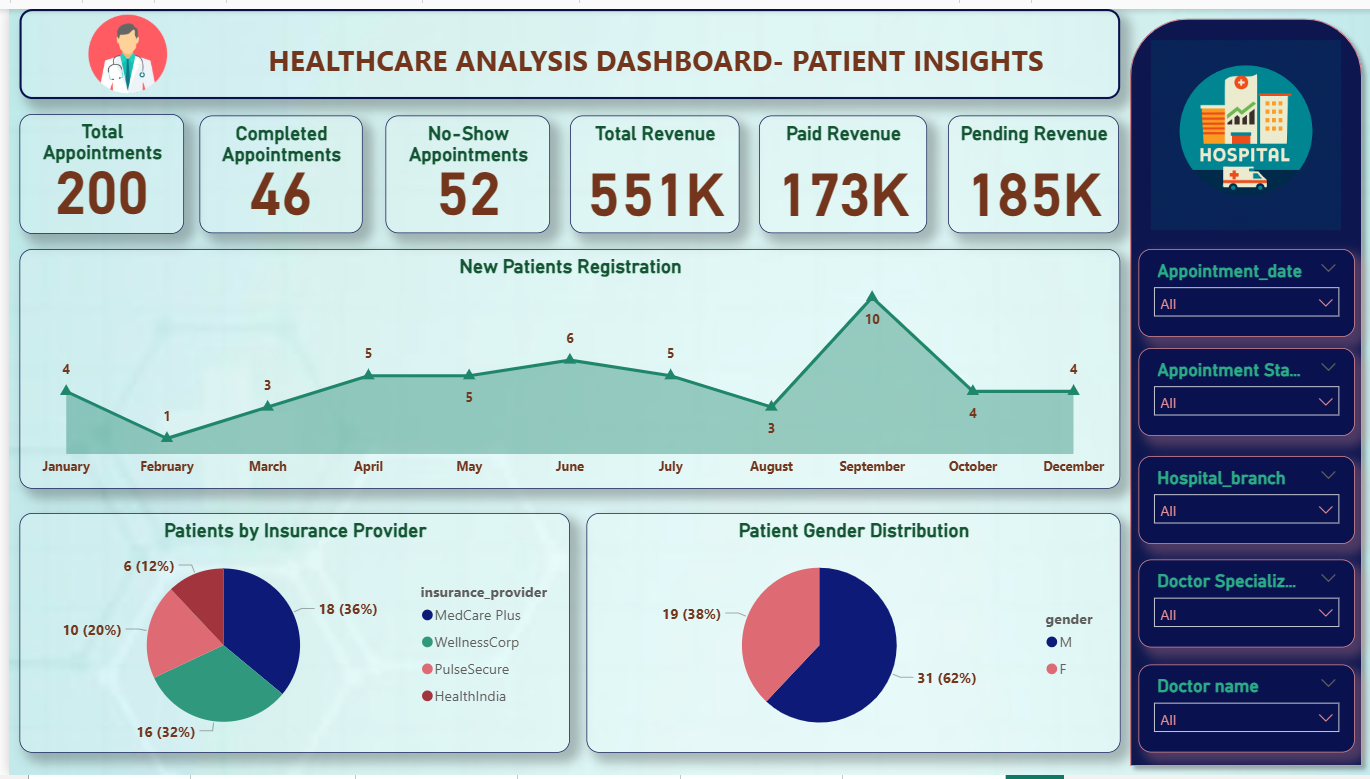

This screenshot's page, from the dashboard's own definition file:
{"tool":"powerbi","page":{"name":"Dashboard 1","canvas":[1280,720],"ordinal":0},"visuals":[{"type":"shape","box":[1044.1,0,236,720.5],"z":0},{"type":"textbox","box":[9.4,0,1034.7,84.4],"z":1000},{"type":"image","box":[0,0,223.5,84.4],"z":2000},{"type":"image","box":[1061.3,23.4,203.2,189.1],"z":3000},{"type":"card","title":"Total Appointments","fields":{"Values":["CountNonNull(appointments.appointment_id)"]},"box":[9.4,98.5,154.7,112.5],"z":4000},{"type":"card","title":"Completed Appointments","fields":{"Values":["CountNonNull(appointments.appointment_id)"]},"box":[179.7,100,153.2,111],"z":5000},{"type":"card","title":"No-Show Appointments","fields":{"Values":["CountNonNull(appointments.appointment_id)"]},"box":[353.2,100,154.7,111],"z":6000},{"type":"card","title":"Total Revenue","fields":{"Values":["Sum(billing.amount)"]},"box":[526.7,100,159.4,111],"z":7000},{"type":"card","title":"Paid Revenue","fields":{"Values":["Sum(billing.amount)"]},"box":[704.9,100,157.9,111],"z":8000},{"type":"card","title":"Pending Revenue","fields":{"Values":["Sum(billing.amount)"]},"box":[883.1,100,161,111],"z":9000},{"type":"slicer","fields":{"Values":["appointments.appointment_date"]},"box":[1061.3,225.1,203.2,82.8],"z":10000},{"type":"slicer","fields":{"Values":["appointments.status"]},"box":[1061.3,318.8,203.2,82.8],"z":11000},{"type":"slicer","fields":{"Values":["doctors.hospital_branch"]},"box":[1061.3,420.4,203.2,82.8],"z":12000},{"type":"slicer","fields":{"Values":["doctors.specialization"]},"box":[1061.3,517.3,203.2,82.8],"z":13000},{"type":"slicer","fields":{"Values":["doctors.Full name"]},"box":[1061.3,615.8,203.2,82.8],"z":14000},{"type":"treemap","title":"Treatment Distribution by Type","fields":{"Group":["treatments.treatment_type"],"Values":["Sum(treatments.cost)"]},"box":[9.4,225.1,498.6,237.6],"z":15000},{"type":"lineChart","title":"Monthly Appointment Trend","fields":{"Category":["appointments.appointment_date.Variation.Date Hierarchy.Month"],"Y":["CountNonNull(appointments.appointment_id)"]},"box":[9.4,473.6,498.6,225.1],"z":16000},{"type":"lineChart","title":"Monthly Revenue Trend","fields":{"Category":["billing.bill_date.Variation.Date Hierarchy.Month"],"Y":["Sum(billing.amount)"]},"box":[526.7,473.6,517.3,225.1],"z":17000},{"type":"barChart","title":"Revenue by Hospital Branch","fields":{"Category":["doctors.hospital_branch"],"Y":["Sum(billing.amount)"]},"box":[526.7,225.1,517.3,237.6],"z":18000}]}

Visuals, with their boxes in screenshot pixels (x1, y1, x2, y2), scaled from the page's 1280x720 canvas onto the 1370x779 screenshot:
shape: BBox(1118, 0, 1369, 778)
textbox: BBox(10, 0, 1118, 91)
image: BBox(0, 0, 239, 91)
image: BBox(1136, 25, 1353, 230)
"Total Appointments" card: BBox(10, 107, 176, 228)
"Completed Appointments" card: BBox(192, 108, 356, 228)
"No-Show Appointments" card: BBox(378, 108, 544, 228)
"Total Revenue" card: BBox(564, 108, 734, 228)
"Paid Revenue" card: BBox(754, 108, 923, 228)
"Pending Revenue" card: BBox(945, 108, 1118, 228)
slicer - appointments.appointment_date: BBox(1136, 244, 1353, 333)
slicer - appointments.status: BBox(1136, 345, 1353, 435)
slicer - doctors.hospital_branch: BBox(1136, 455, 1353, 544)
slicer - doctors.specialization: BBox(1136, 560, 1353, 649)
slicer - doctors.Full name: BBox(1136, 666, 1353, 756)
"Treatment Distribution by Type" treemap: BBox(10, 244, 544, 501)
"Monthly Appointment Trend" lineChart: BBox(10, 512, 544, 756)
"Monthly Revenue Trend" lineChart: BBox(564, 512, 1117, 756)
"Revenue by Hospital Branch" barChart: BBox(564, 244, 1117, 501)
